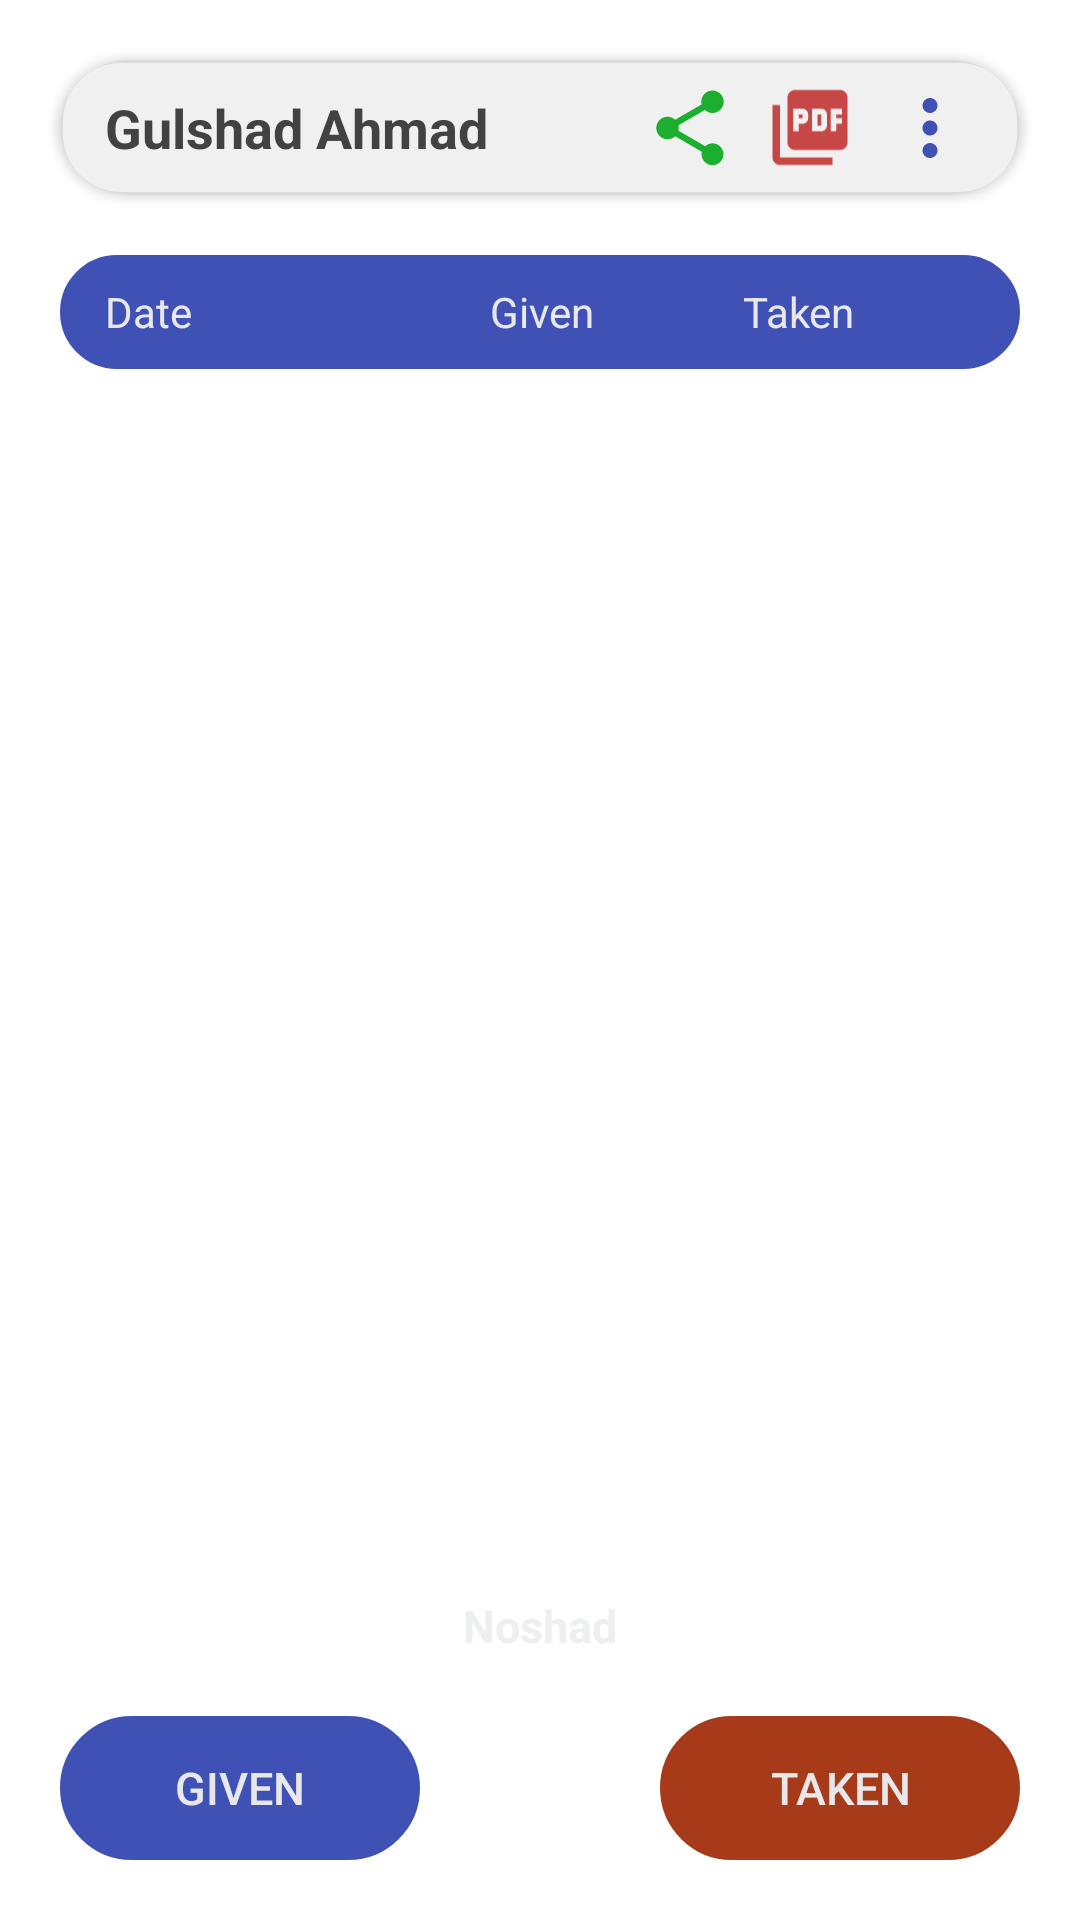

Icon click points for this 1080px x 1920px phone screenshot, format point (x, y):
more ver: point (930, 128)
picture as pdf: point (810, 127)
share: point (690, 128)
